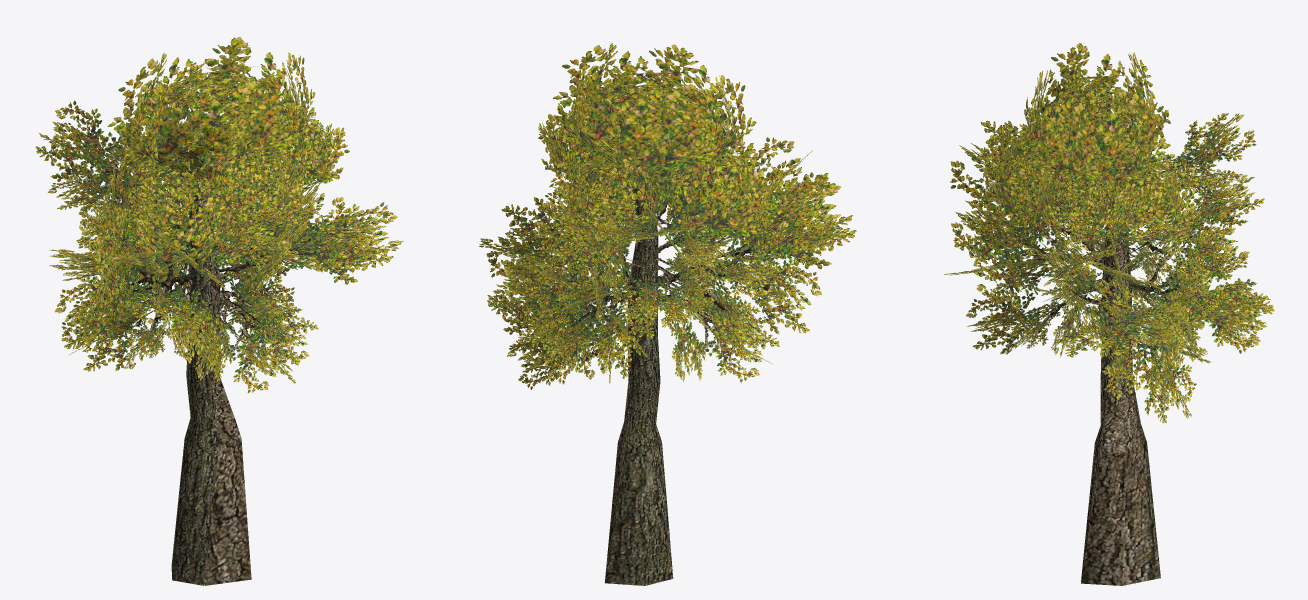
Rendered from flora_tree_oak_aut_new.glb.
3 views of the same model, side by side, from view 1: azimuth 30°, elevation 25°; view 2: azimuth 150°, elevation 25°; view 3: azimuth 270°, elevation 25° (orthographic). The views are drawn at different scales.
Parts seen in each view (by area): view 1: flora_tree_oak_aut_new_part1, flora_tree_oak_aut_new_part0; view 2: flora_tree_oak_aut_new_part1, flora_tree_oak_aut_new_part0; view 3: flora_tree_oak_aut_new_part1, flora_tree_oak_aut_new_part0.
Part boxes in pixels (x1=…): flora_tree_oak_aut_new_part1: x1=35, y1=37, x2=403, y2=392; flora_tree_oak_aut_new_part0: x1=91, y1=133, x2=331, y2=585; flora_tree_oak_aut_new_part1: x1=479, y1=43, x2=856, y2=389; flora_tree_oak_aut_new_part0: x1=535, y1=147, x2=779, y2=585; flora_tree_oak_aut_new_part1: x1=944, y1=43, x2=1274, y2=423; flora_tree_oak_aut_new_part0: x1=996, y1=154, x2=1223, y2=585.
Bounding box in the file's own units: 21.56 × 28.25 × 19.22.
2 materials, 2 textured.
